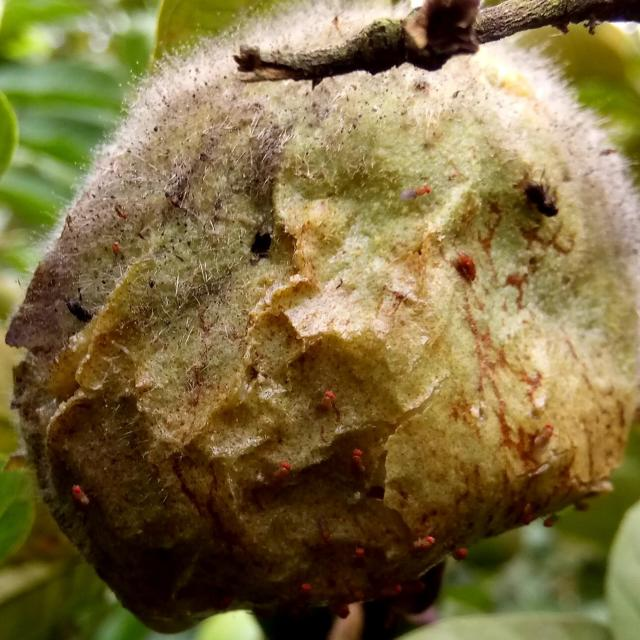Phytopthora: (6, 1, 638, 632)
